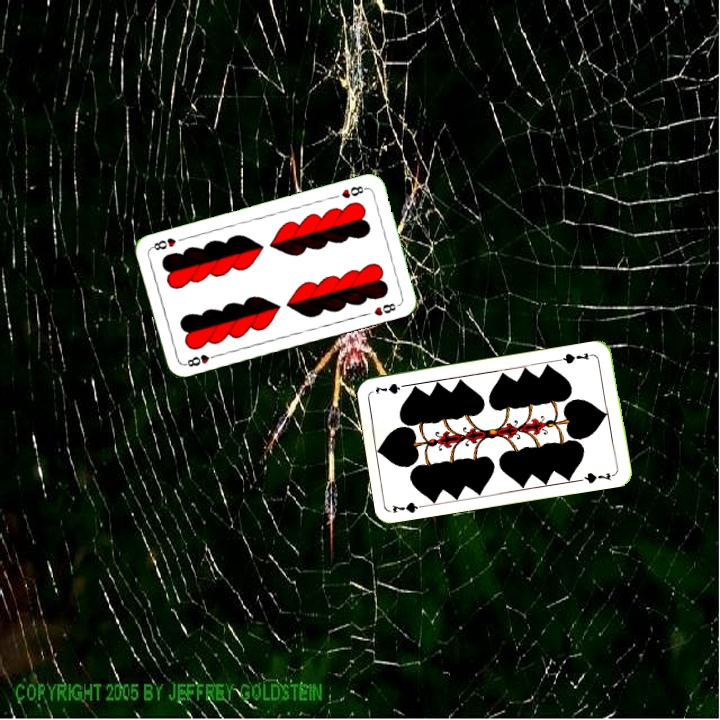G7: (556, 349, 597, 366), (389, 498, 430, 515)
H8: (181, 350, 220, 369), (337, 182, 370, 201)
